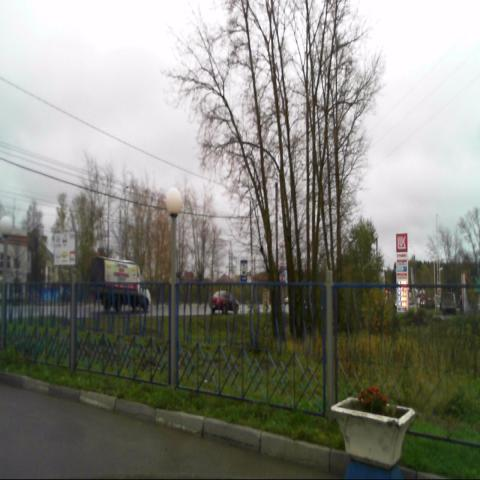7_5: (239, 256, 248, 282)
